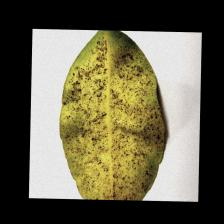canker: (73, 82, 153, 178)
